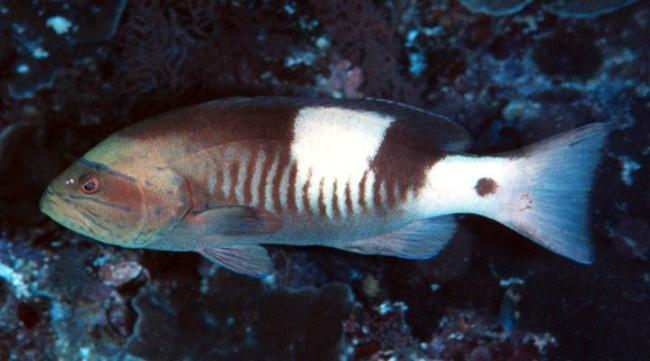fish: (42, 96, 616, 279)
